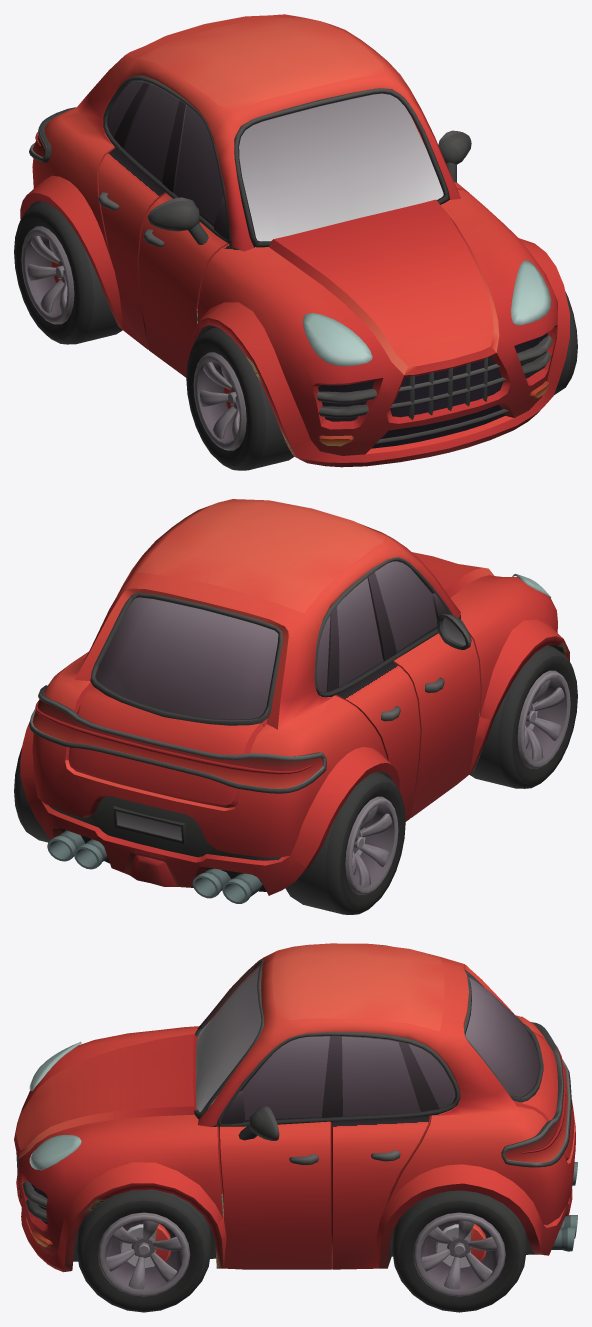
Rendered from red.glb.
3 renders of one model, top to bottom at view 1: azimuth 30°, elevation 25°; view 2: azimuth 150°, elevation 25°; view 3: azimuth 270°, elevation 25°, orthographic. The views are drawn at different scales.
Parts seen in each view (by area): view 1: body_01, hood, accessories, wheel_L2, wheel_R, wheel_L, lanterns; view 2: body_01, wheel_L2, wheel_R, lanterns, exhaust_pipe, accessories, hood, wheel_L1; view 3: body_01, wheel_L, wheel_L1, hood, accessories, lanterns, exhaust_pipe, brake.
Part boxes in pixels (x1,y1,x2,y2): body_01: (20, 14, 569, 467); hood: (269, 199, 499, 375); accessories: (98, 130, 552, 444); wheel_L2: (14, 201, 122, 344); wheel_R: (186, 327, 293, 470); wheel_L: (554, 291, 577, 394); lanterns: (29, 107, 75, 162); body_01: (20, 499, 569, 895); wheel_L2: (285, 772, 405, 914); wheel_R: (469, 645, 577, 788); lanterns: (29, 685, 326, 793); exhaust_pipe: (47, 830, 262, 903); accessories: (381, 573, 551, 721); hood: (412, 552, 494, 597); wheel_L1: (14, 746, 50, 842); body_01: (16, 943, 575, 1272); wheel_L: (76, 1189, 210, 1312); wheel_L1: (392, 1190, 526, 1312); hood: (14, 1034, 197, 1158); accessories: (16, 1041, 400, 1221); lanterns: (501, 1022, 571, 1167); exhaust_pipe: (551, 1162, 577, 1251); brake: (155, 1224, 486, 1261).
Size of the model in its own units: 1.41 by 1.21 by 2.28.
Materials: 1 (1 with a texture image).
